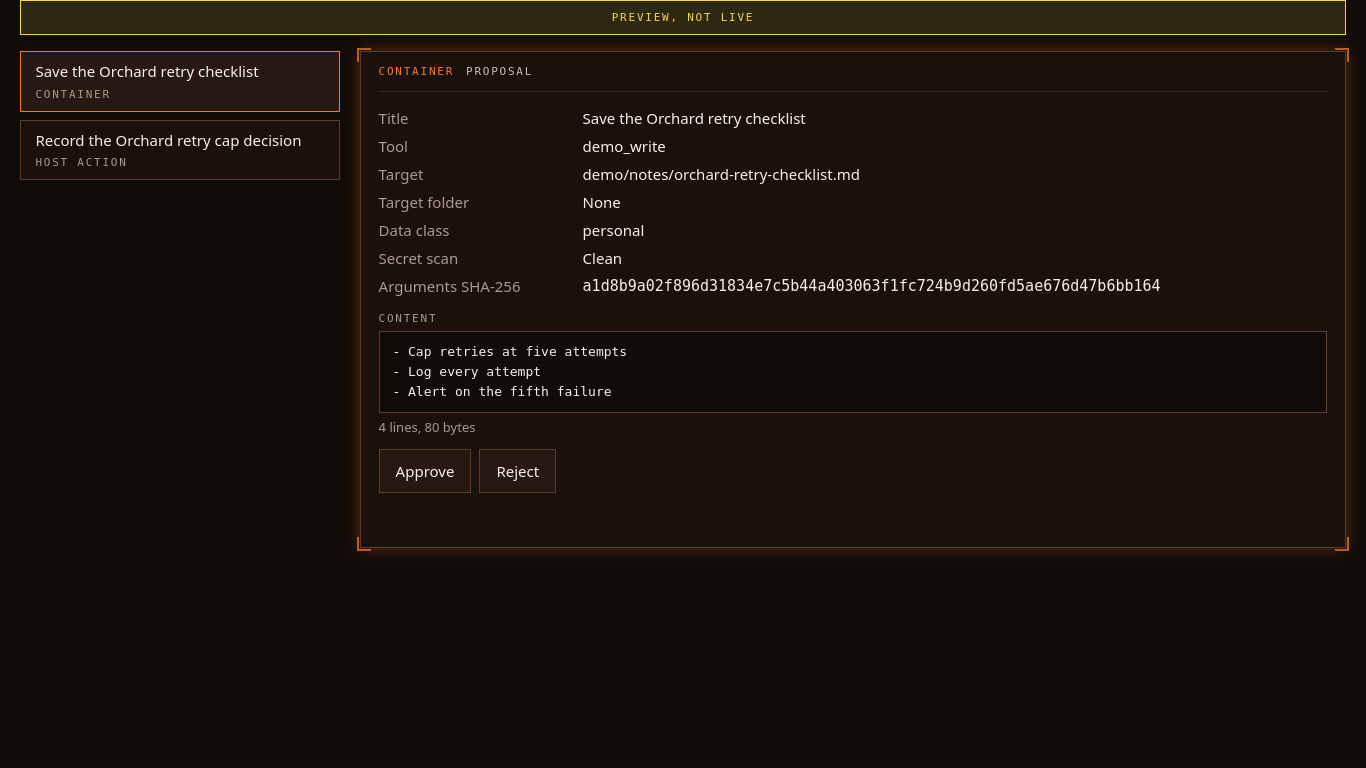
Test case: Reject shows Preview: nothing was executed
Click the button "Reject".
click(518, 471)  # box top-left (479, 449), bottom-right (556, 493)
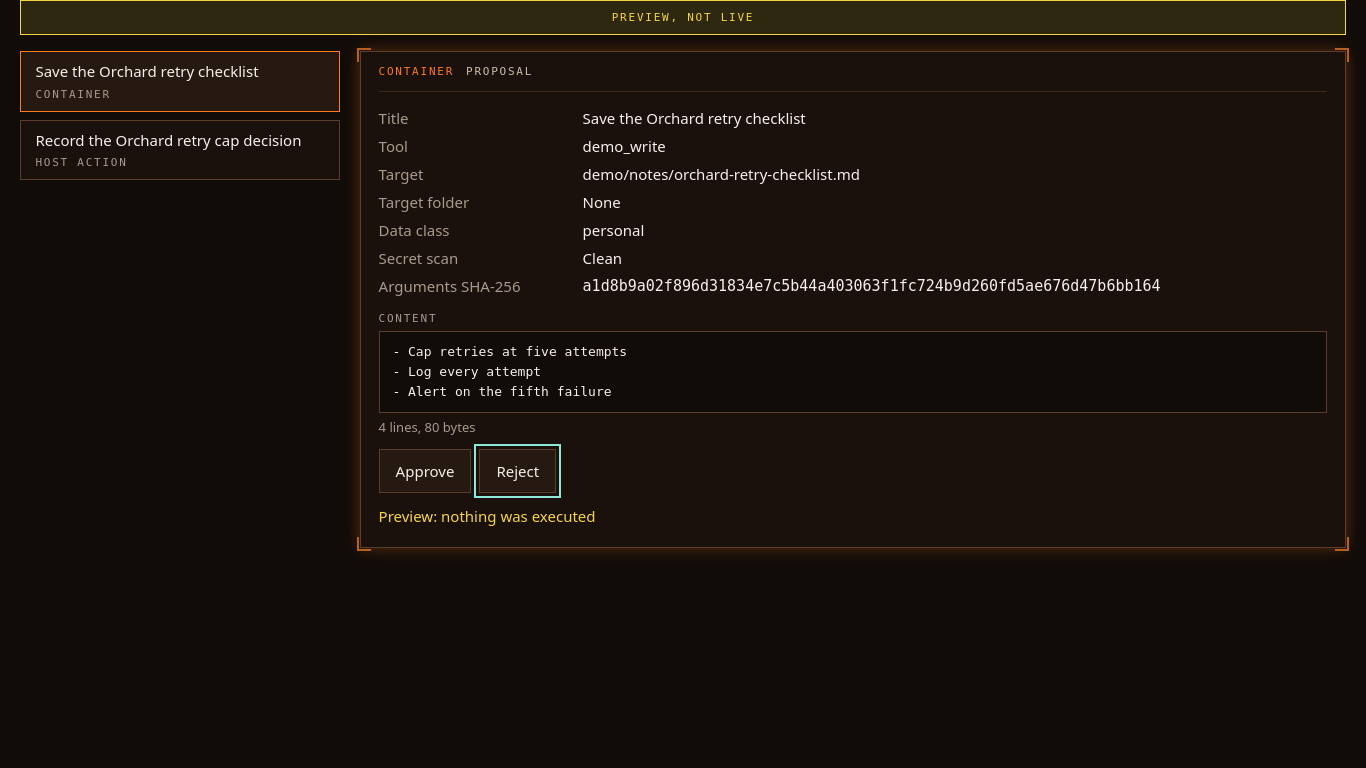
Result: the message reads "Preview: nothing was executed" at top-left (379, 506), bottom-right (596, 526)
